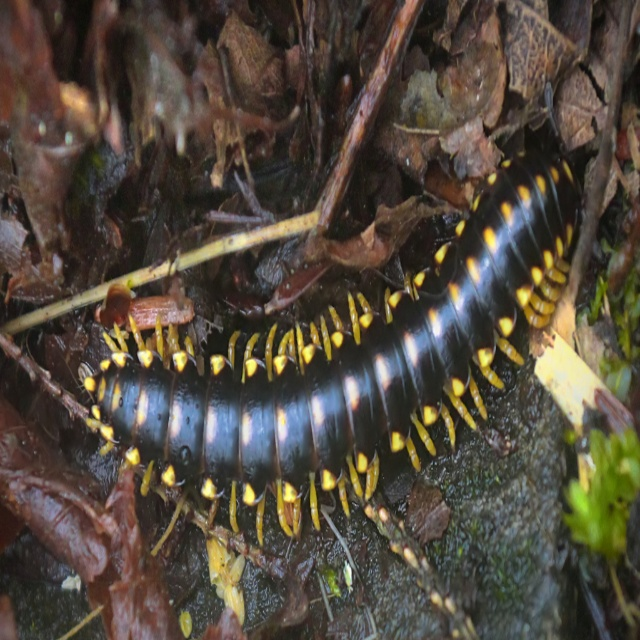Centipede: (75, 82, 590, 545)
